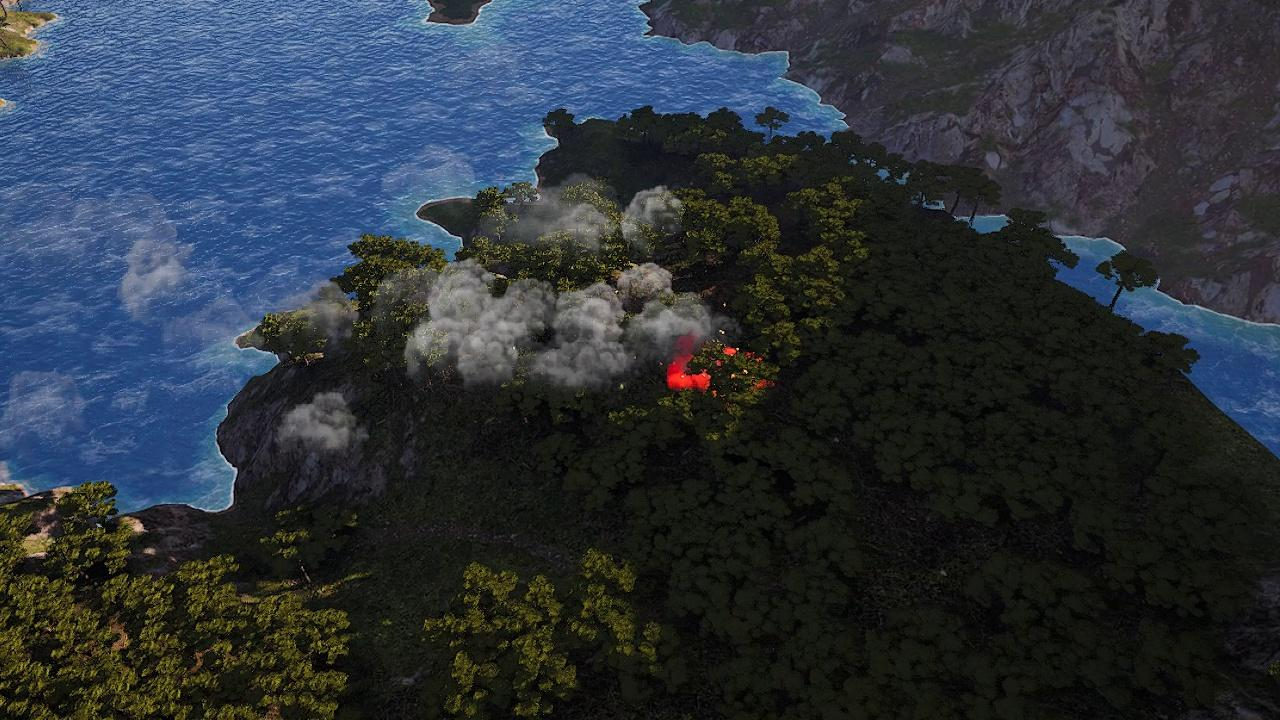smoke: (321, 178, 750, 397), (116, 207, 192, 318), (280, 388, 371, 455)
